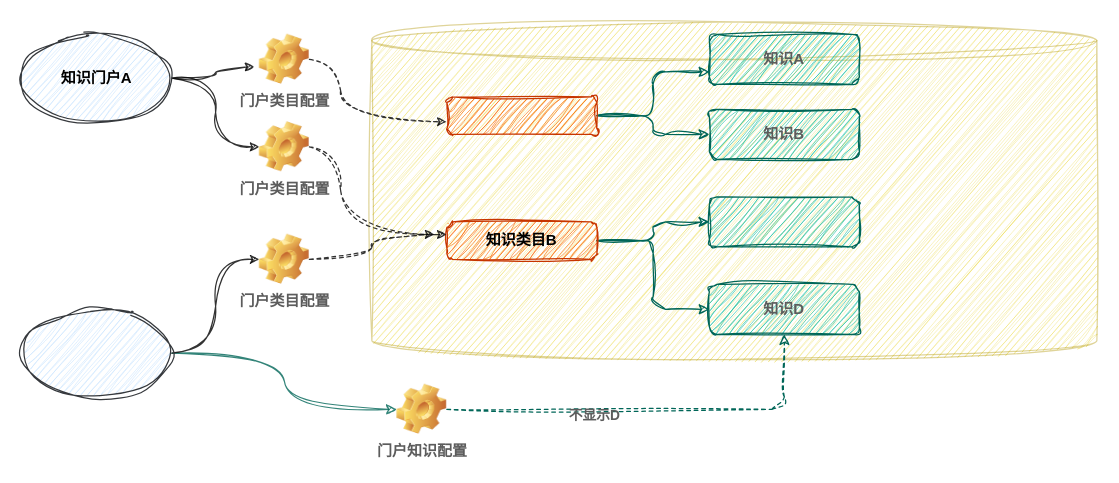
Image size: 1119x483. Some labels were removed from this diagram. Here are the shapes that lost their labels. From the top down, the box of each, then its label:
(446, 96, 597, 134): 知识类目A
(371, 21, 1097, 359): 知识库
(708, 196, 859, 247): 知识C
(21, 308, 172, 397): 知识门户B
